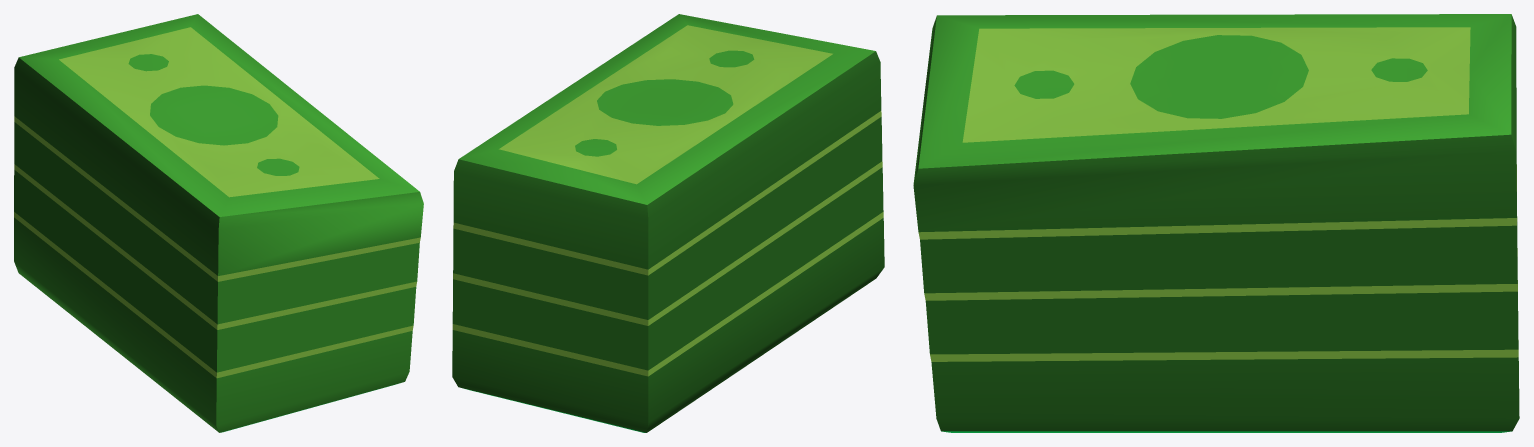
The model's file is Money.fbx.
3 views of the same model, side by side, from view 1: azimuth 30°, elevation 25°; view 2: azimuth 150°, elevation 25°; view 3: azimuth 270°, elevation 25° (orthographic). The views are drawn at different scales.
Parts seen in each view (by area): view 1: Money; view 2: Money; view 3: Money.
Part boxes in pixels (box(x1,y1,x2,y2)): Money: box(14, 14, 423, 432); Money: box(452, 14, 884, 432); Money: box(913, 14, 1519, 432).
Size of the model in its own units: 18.89 by 20.45 by 35.78.
